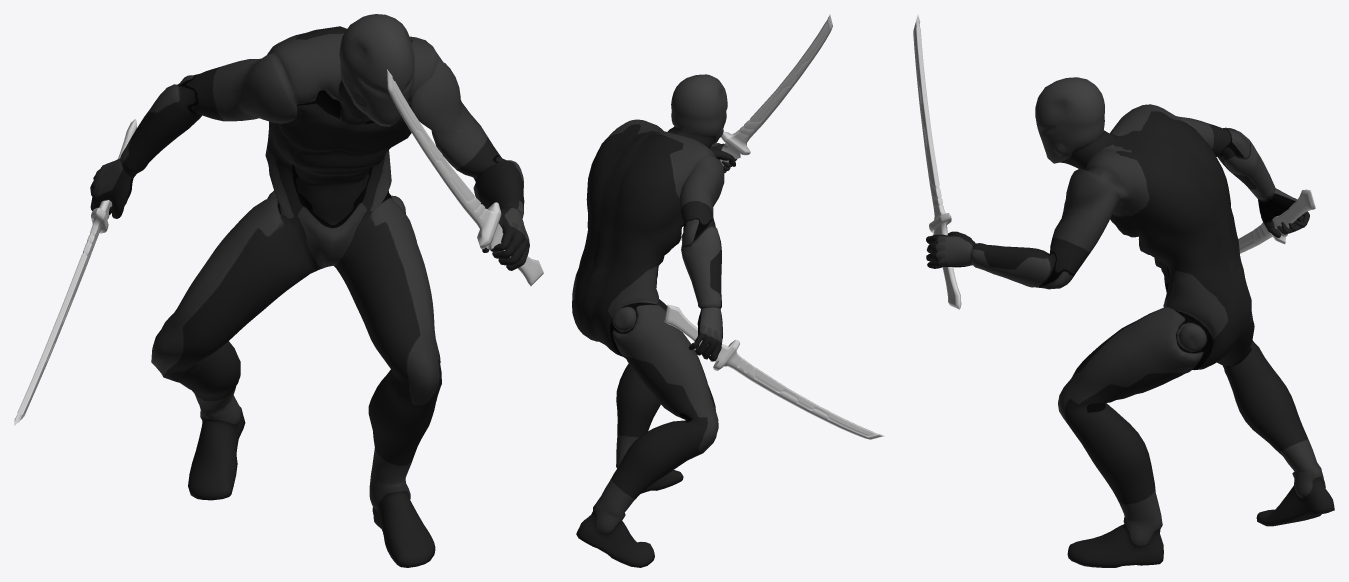
3 renders of one model, left to right at view 1: azimuth 30°, elevation 25°; view 2: azimuth 150°, elevation 25°; view 3: azimuth 270°, elevation 25°, orthographic. The views are drawn at different scales.
Visible parts, largest first — view 1: Cyborg_Ninja_Killer, Sword_l, Sword_l001; view 2: Cyborg_Ninja_Killer, Sword_l001, Sword_l; view 3: Cyborg_Ninja_Killer, Sword_l, Sword_l001.
Part boxes in pixels (left/top/right/bottom): Cyborg_Ninja_Killer: left=90, top=14, right=529, bottom=567; Sword_l: left=387, top=69, right=543, bottom=286; Sword_l001: left=14, top=119, right=137, bottom=425; Cyborg_Ninja_Killer: left=572, top=74, right=736, bottom=567; Sword_l001: left=664, top=304, right=883, bottom=439; Sword_l: left=719, top=14, right=832, bottom=166; Cyborg_Ninja_Killer: left=926, top=77, right=1334, bottom=567; Sword_l: left=913, top=14, right=961, bottom=309; Sword_l001: left=1238, top=189, right=1315, bottom=253.
Bounding box in the file's own units: 122 × 161 × 124.
